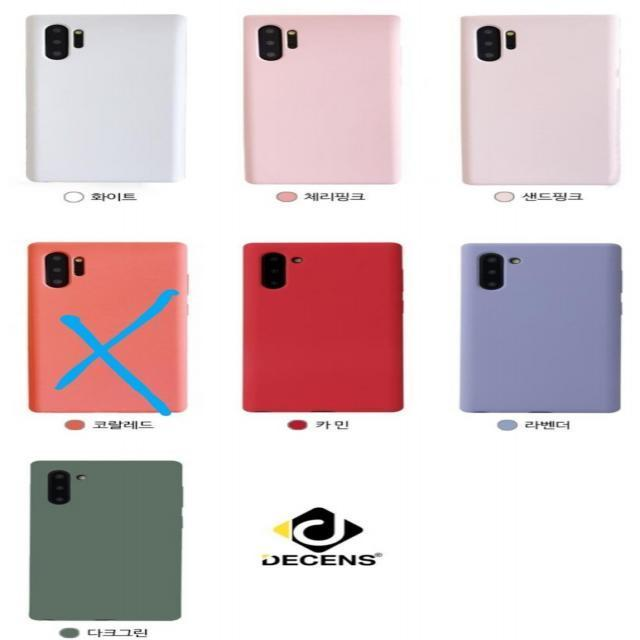phone: (460, 242, 624, 414), (242, 242, 406, 412), (460, 15, 620, 186), (242, 13, 400, 185), (24, 14, 185, 182), (30, 460, 184, 622)
